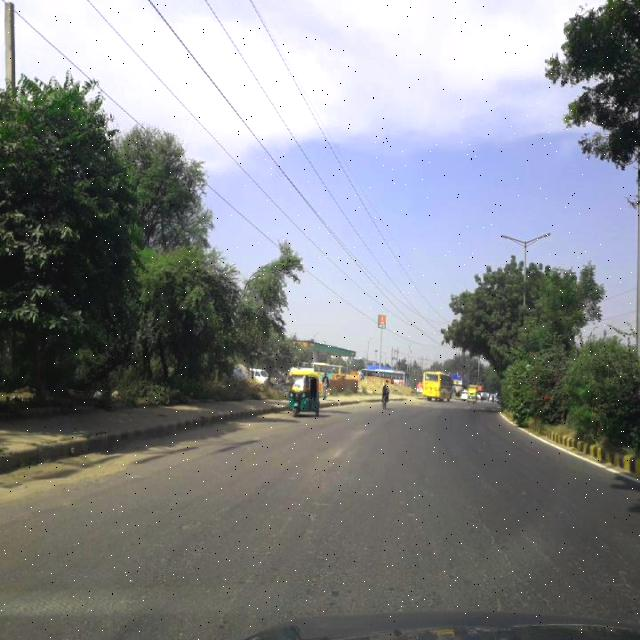D00: (474, 494, 554, 612)
